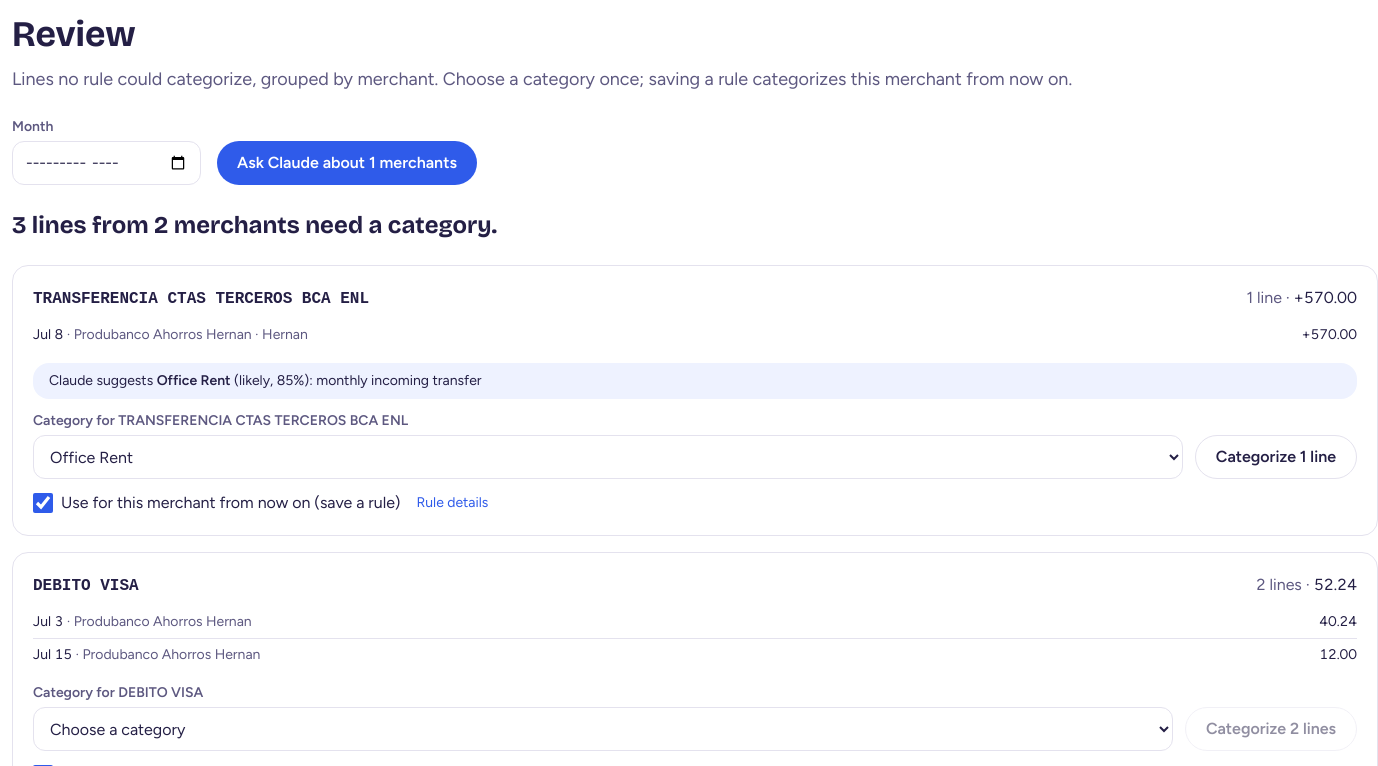
Test: Review › asks Claude about merchants without a suggestion
This screenshot has width=1378, height=766.
Click the button "Ask Claude about 1 merchants".
click(347, 163)  # box [217,141,477,185]
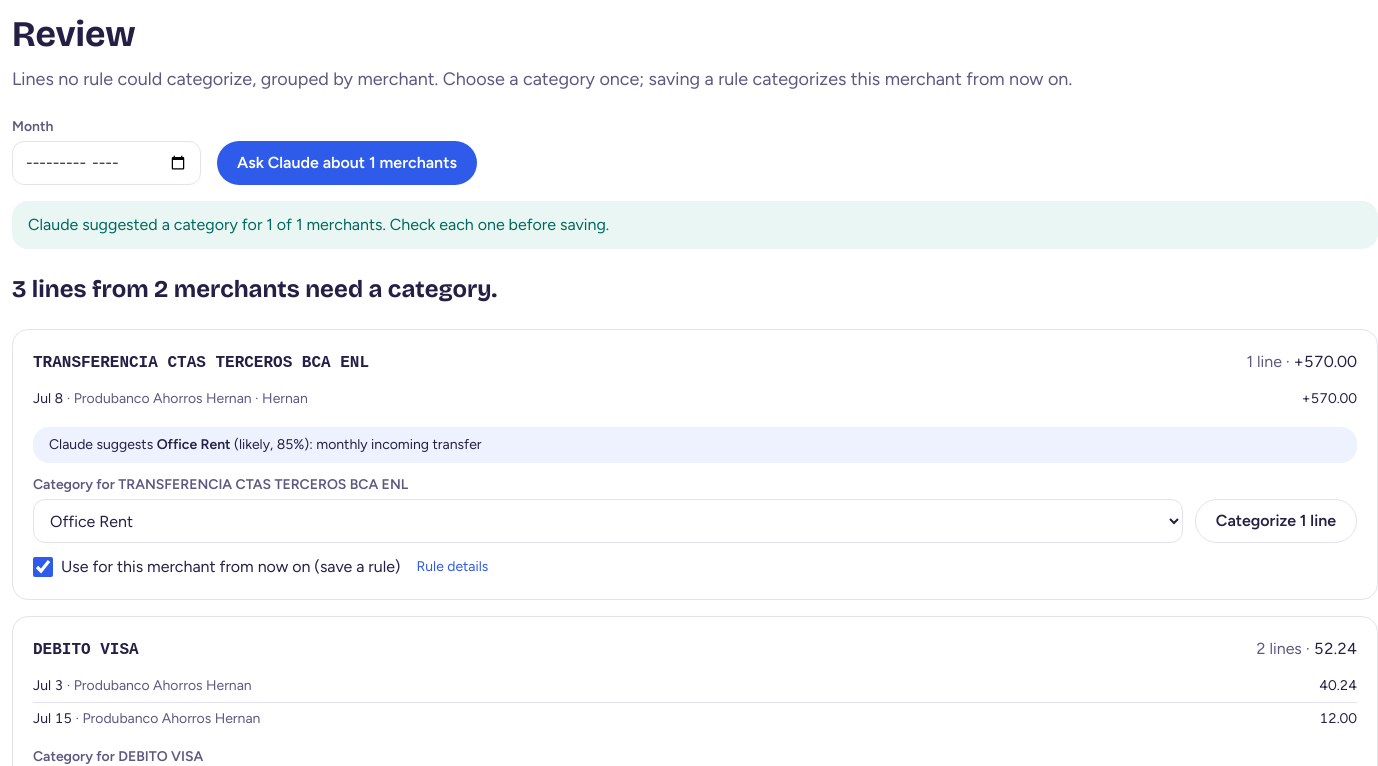
Check: the text "Claude suggested a category for 1 of 1 merchants" is shown, box [28,215,609,234]
